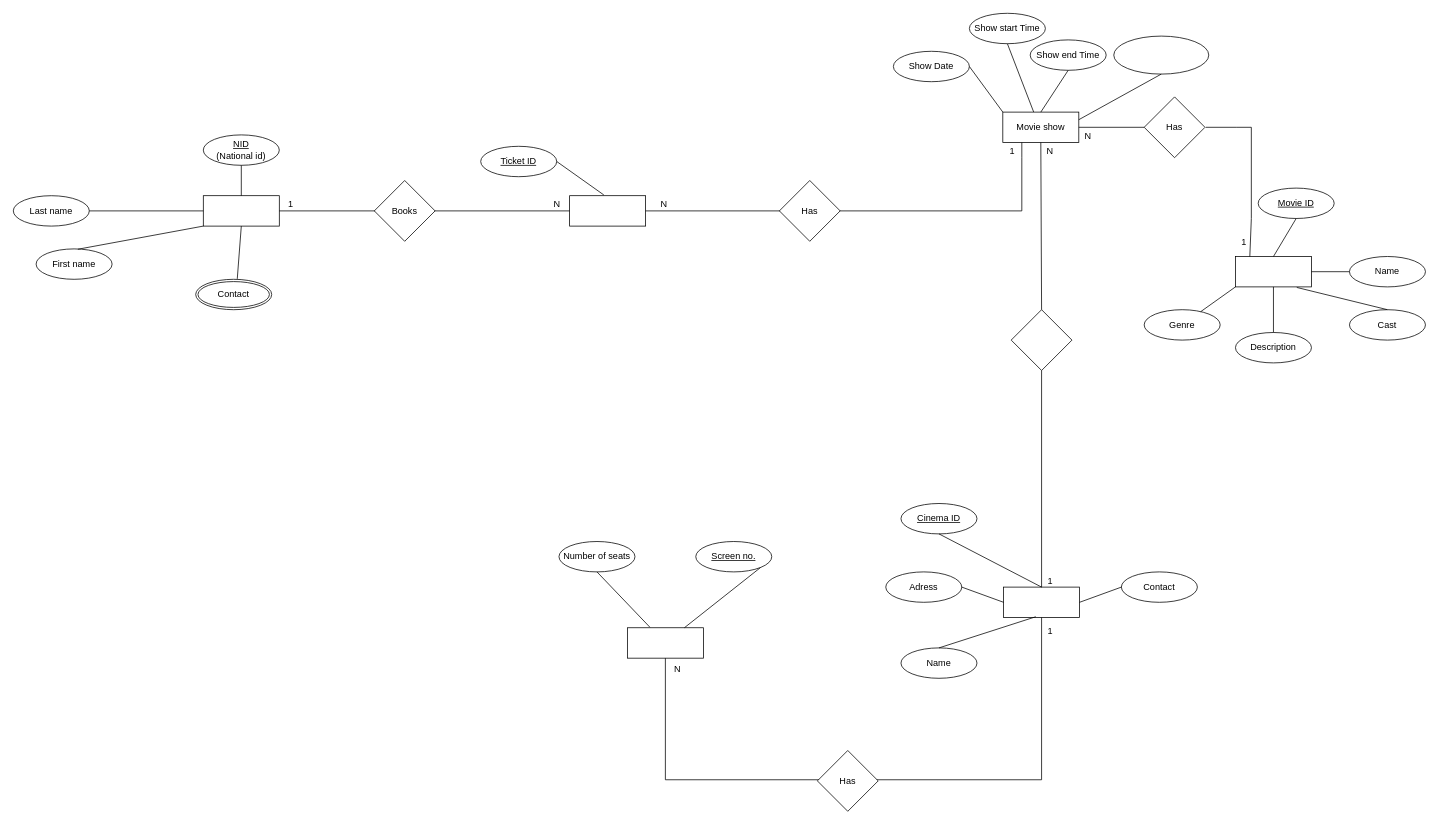
Some shapes in this 1439 by 825 pixel diagram are drawn without their labels. The centre of each missing label's shape, as x and y in pixels:
"Cinema" belongs at (1041,602).
"Customer" belongs at (241,210).
"Movie" belongs at (1273,271).
"MSID ( Movie show id )" belongs at (1161,54).
"Runs in" belongs at (1041,339).
"Screen" belongs at (665,642).
"Ticket" belongs at (607,210).
